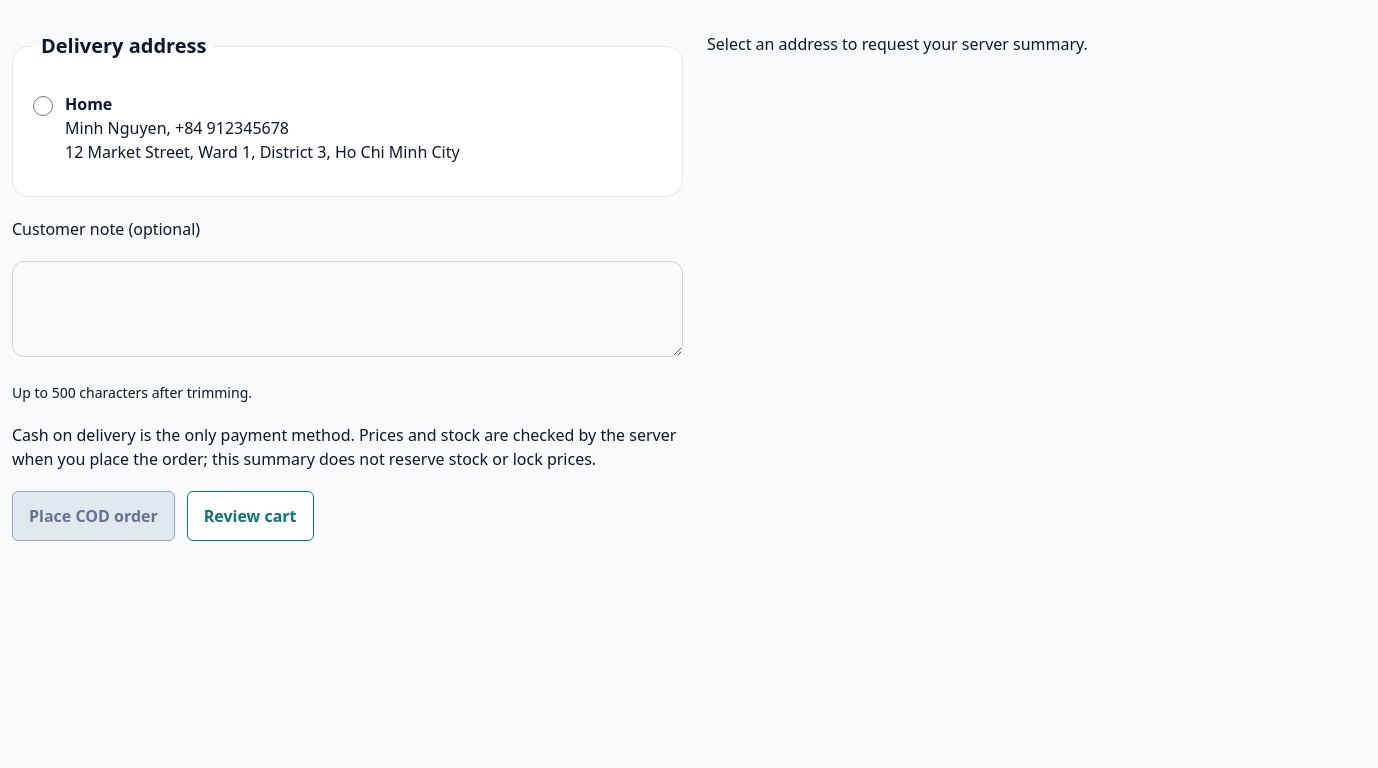
Test case: unavailable quote never enables submission; summary can be retried
This screenshot has width=1378, height=768.
Click the radio button.
click(43, 106)  # box x1=33 y1=96 x2=53 y2=116
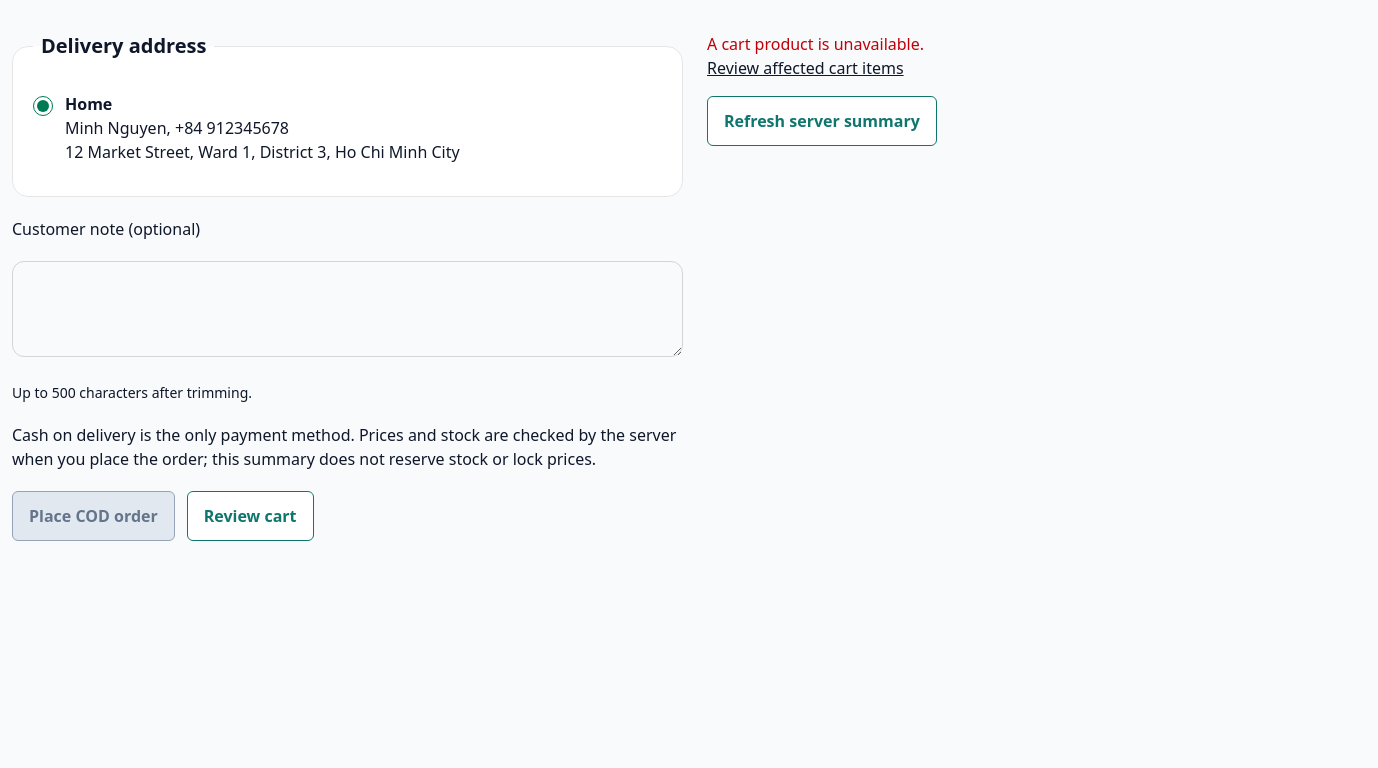
Expected: the button "Place COD order" is disabled, x1=12 y1=491 x2=175 y2=541
Now the text "A cart product is unavailable." is shown, box x1=707 y1=33 x2=924 y2=55
Click the button "Refresh server summary".
click(822, 121)  # box x1=707 y1=96 x2=937 y2=146
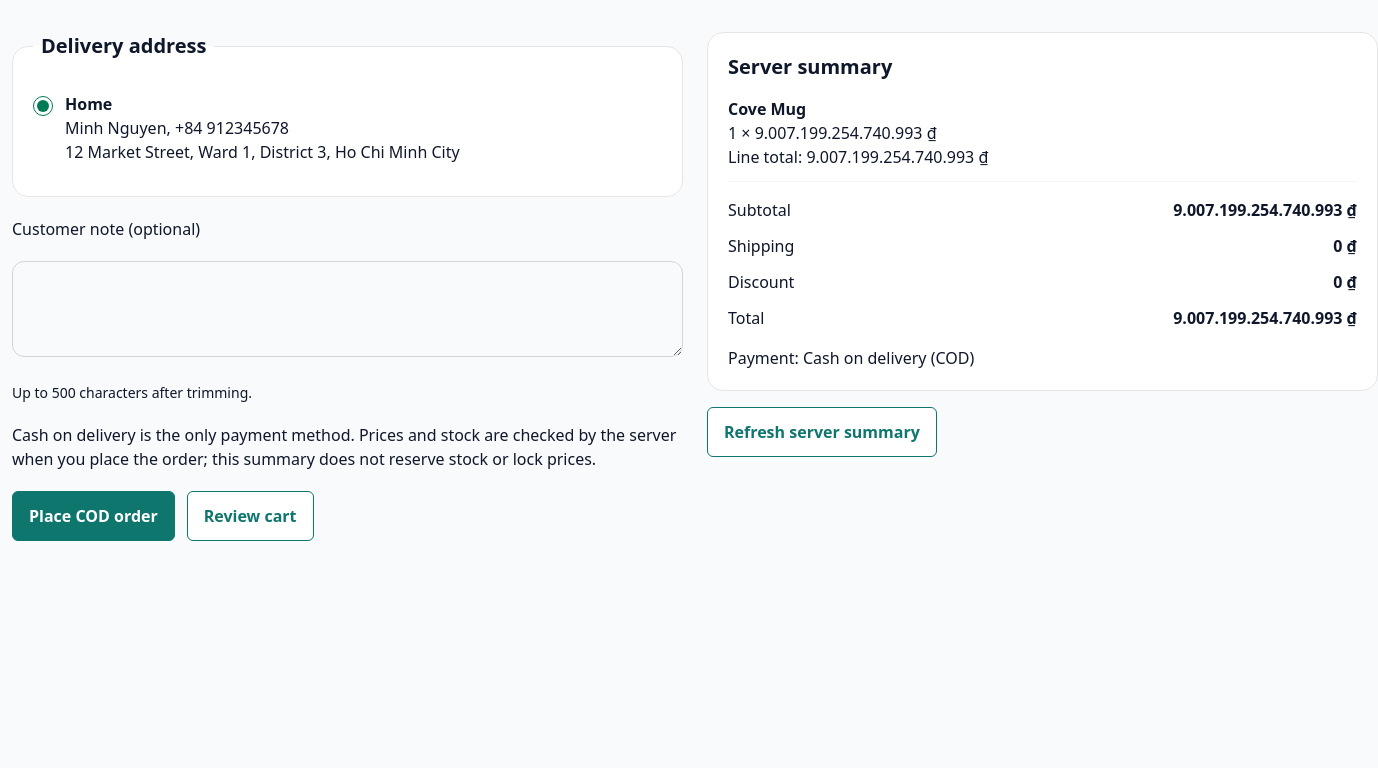
Now the button "Place COD order" is enabled, box x1=12 y1=491 x2=175 y2=541
